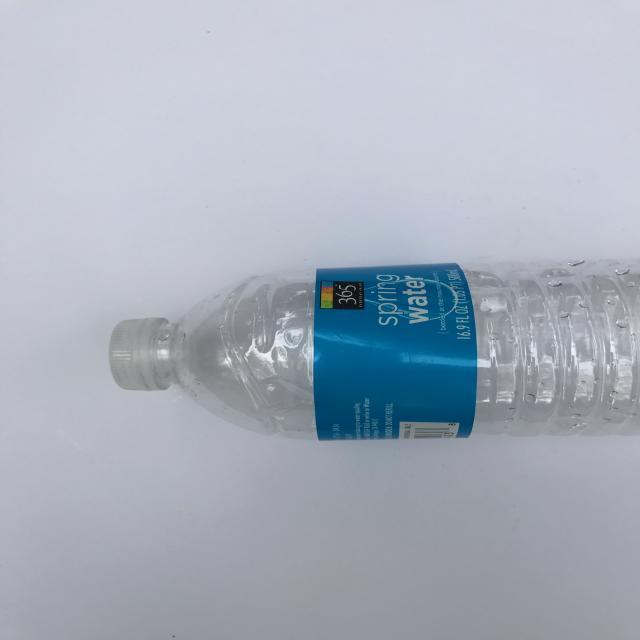plastic: (102, 262, 640, 448)
